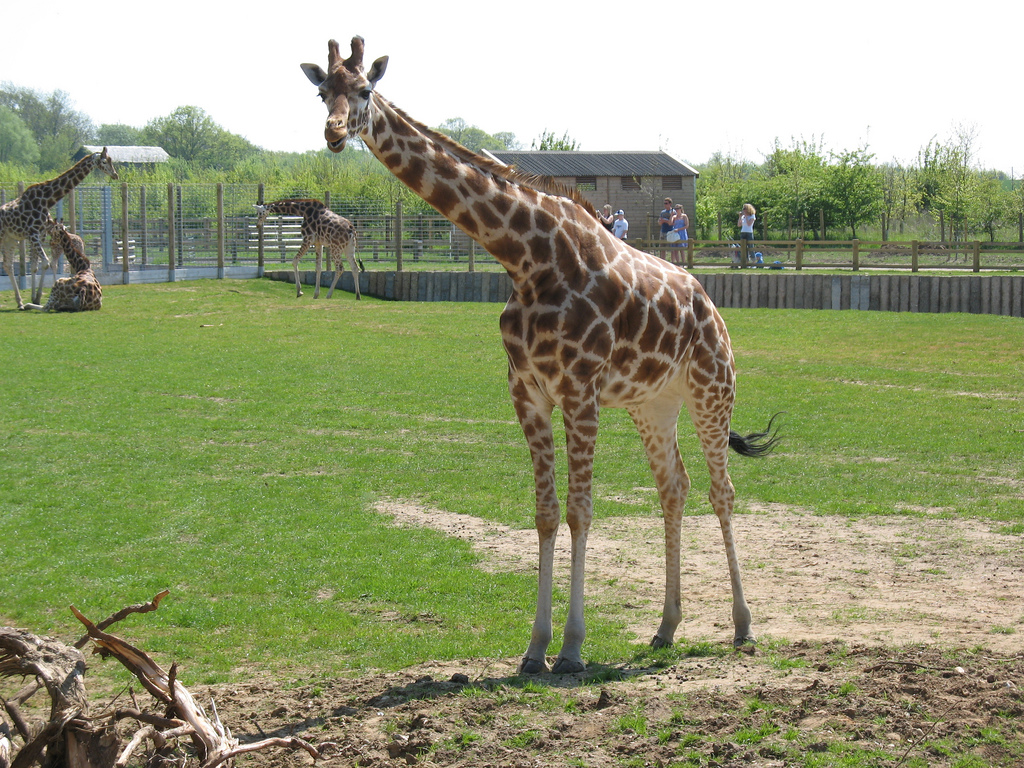giraffe: (301, 52, 802, 688)
